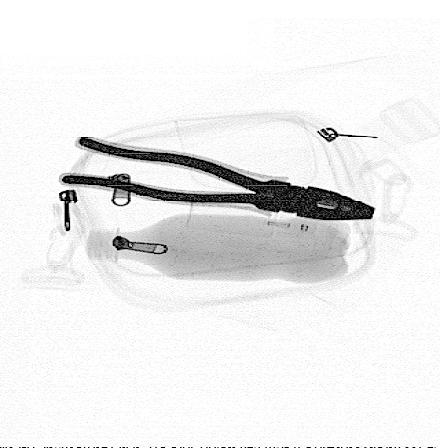Pliers: (59, 134, 381, 223)
